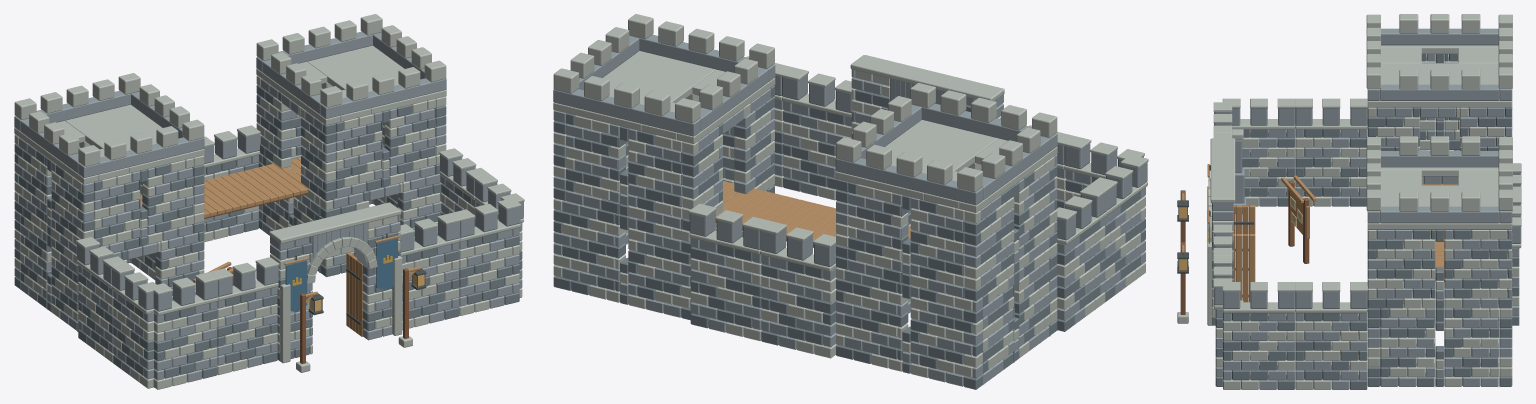
The model's file is kings_gate_courtyard.glb.
3 views of the same model, side by side, from view 1: azimuth 30°, elevation 25°; view 2: azimuth 150°, elevation 25°; view 3: azimuth 270°, elevation 25° (orthographic). The views are drawn at different scales.
Parts seen in each view (by area): view 1: castle_tower_storey_4m.002, castle_tower_storey_4m.004, castle_tower_battlement_cap_4m.002, castle_tower_battlement_cap_4m.001, castle_gate_arch_4m.001, castle_tower_storey_4m.001, castle_wall_battlement_2m.002, castle_wall_battlement_2m.001, castle_wall_battlement_2m.006, castle_tower_storey_4m.003, castle_wall_battlement_2m.005, castle_wall_battlement_2m.003 (+11 smaller); view 2: castle_tower_storey_4m.001, castle_tower_storey_4m.002, castle_tower_battlement_cap_4m.002, castle_tower_battlement_cap_4m.001, castle_tower_storey_4m.004, castle_tower_storey_4m.003, castle_wall_battlement_2m.009, castle_wall_battlement_2m.010, castle_wall_battlement_2m.005, castle_wall_battlement_2m.004, castle_wall_battlement_2m.003, castle_gate_arch_4m.001 (+5 smaller); view 3: castle_tower_battlement_cap_4m.001, castle_tower_battlement_cap_4m.002, castle_tower_storey_4m.004, castle_tower_storey_4m.003, castle_wall_battlement_2m.008, castle_wall_battlement_2m.007, castle_wall_battlement_2m.004, castle_wall_battlement_2m.003, castle_tower_storey_4m.002, castle_gate_arch_4m.001, castle_gate_oak_pair.001, village_notice_board.001 (+8 smaller).
Part boxes in pixels (x1,y1,x2,y2): castle_tower_storey_4m.002: (14,134,204,254); castle_tower_storey_4m.004: (256,75,446,201); castle_tower_battlement_cap_4m.002: (256,14,446,125); castle_tower_battlement_cap_4m.001: (14,73,204,184); castle_gate_arch_4m.001: (269,202,402,363); castle_tower_storey_4m.001: (14,194,204,331); castle_wall_battlement_2m.002: (150,272,218,389); castle_wall_battlement_2m.001: (210,257,279,375); castle_wall_battlement_2m.006: (452,200,521,315); castle_tower_storey_4m.003: (258,135,441,276); castle_wall_battlement_2m.005: (400,213,460,330); castle_wall_battlement_2m.003: (111,262,156,388); castle_tower_storey_4m.001: (836,224,1057,389); castle_tower_storey_4m.002: (836,154,1057,300); castle_tower_battlement_cap_4m.002: (553,14,775,143); castle_tower_battlement_cap_4m.001: (835,83,1057,212); castle_tower_storey_4m.004: (553,85,774,231); castle_tower_storey_4m.003: (553,155,774,320); castle_wall_battlement_2m.009: (759,221,836,358); castle_wall_battlement_2m.010: (688,203,769,340); castle_wall_battlement_2m.005: (781,67,852,200); castle_wall_battlement_2m.004: (1056,184,1107,331); castle_wall_battlement_2m.003: (1090,155,1148,301); castle_gate_arch_4m.001: (850,55,1004,139); castle_tower_battlement_cap_4m.001: (1366,14,1512,107); castle_tower_battlement_cap_4m.002: (1366,136,1512,229); castle_tower_storey_4m.004: (1367,176,1512,308); castle_tower_storey_4m.003: (1367,251,1512,386); castle_wall_battlement_2m.008: (1295,282,1367,389); castle_wall_battlement_2m.007: (1222,282,1295,389); castle_wall_battlement_2m.004: (1295,98,1367,206); castle_wall_battlement_2m.003: (1222,98,1295,206); castle_tower_storey_4m.002: (1367,54,1512,150); castle_gate_arch_4m.001: (1207,138,1235,325); castle_gate_oak_pair.001: (1233,205,1255,302); village_notice_board.001: (1281,175,1316,263).
Bounding box in the file's own units: 12.52 × 5.8 × 9.52.
